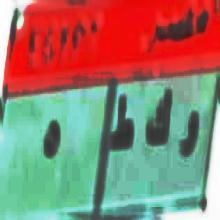5: (42, 113, 61, 156)
Taa: (108, 92, 133, 158)
kaaf: (146, 83, 172, 158)
waw: (179, 108, 198, 160)
